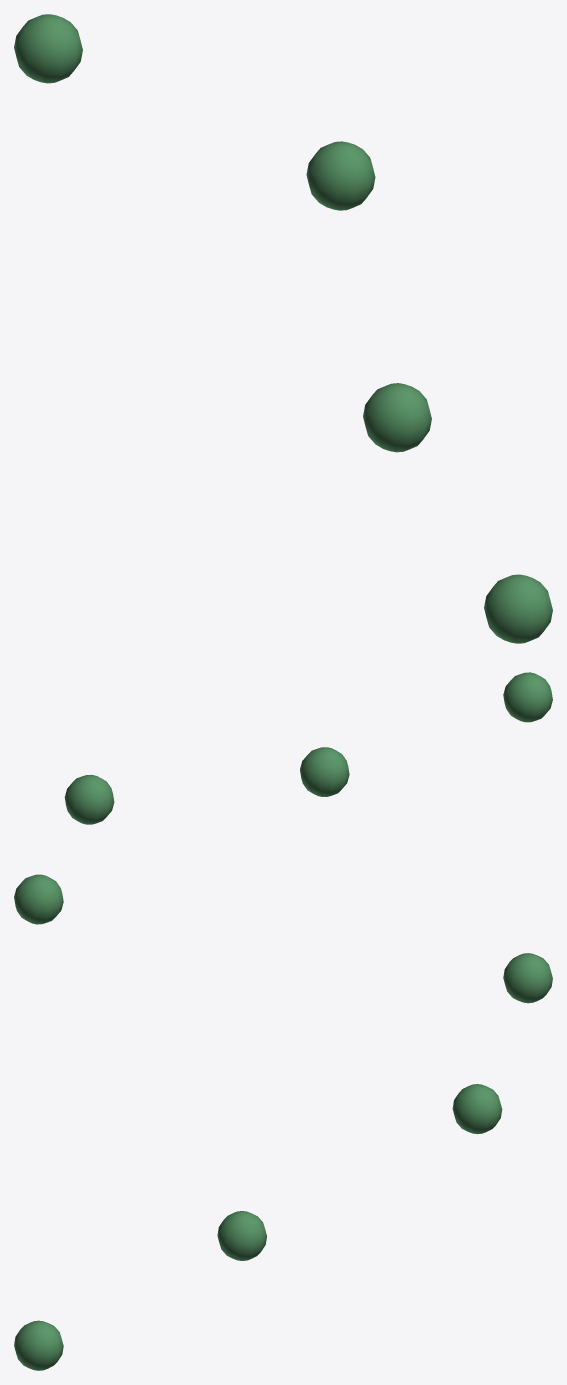
The picture shows the model from 3 angles, top to bottom: view 1: azimuth 30°, elevation 25°; view 2: azimuth 150°, elevation 25°; view 3: azimuth 330°, elevation 25°; orthographic projection. The views are drawn at different scales.
Parts seen in each view (by area): view 1: 左侧腹股沟浅淋巴结下群; view 2: 左侧腹股沟浅淋巴结下群; view 3: 左侧腹股沟浅淋巴结下群.
Boxes of the visible parts, x1,y1,x2,y2 form: 左侧腹股沟浅淋巴结下群: (14, 14, 552, 643); 左侧腹股沟浅淋巴结下群: (14, 672, 552, 924); 左侧腹股沟浅淋巴结下群: (14, 953, 552, 1370).
Size of the model in its own units: 0.0175 by 0.0108 by 0.067.
